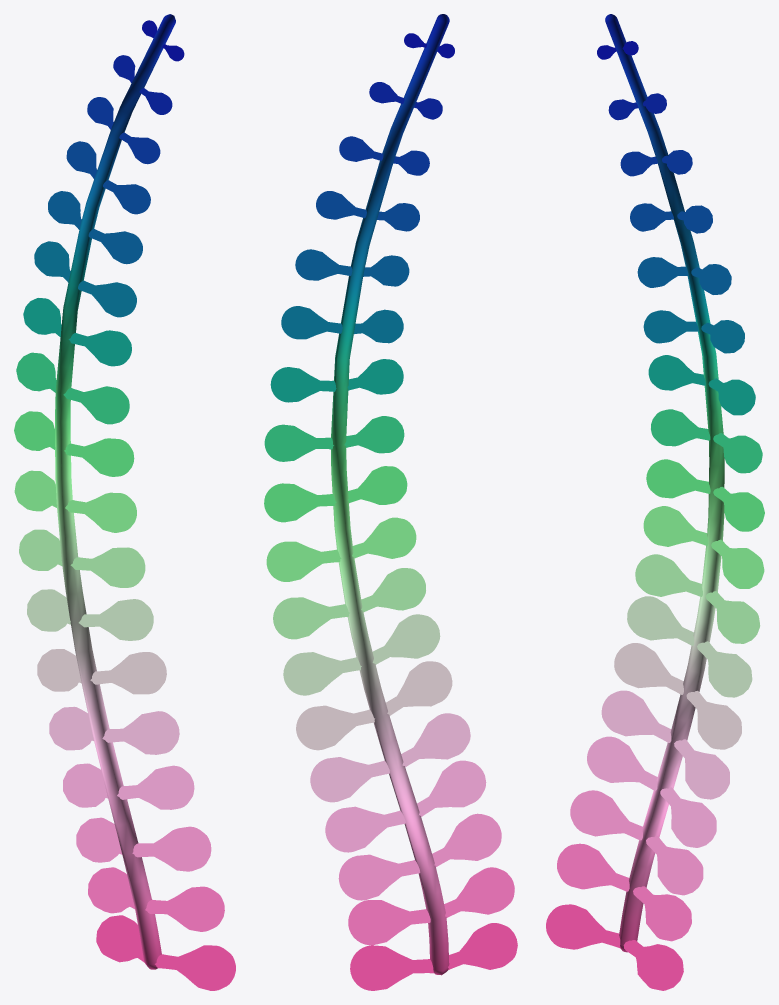
Rendered from Fern_1_R1.fbx.
3 views of the same model, side by side, from view 1: azimuth 90°, elevation 25°; view 2: azimuth 150°, elevation 25°; view 3: azimuth 270°, elevation 25° (orthographic).
Parts seen in each view (by area): view 1: Fern_1; view 2: Fern_1; view 3: Fern_1.
Boxes of the visible parts, box(x1,y1,x2,y2) form: Fern_1: box(14, 14, 235, 990); Fern_1: box(264, 14, 517, 990); Fern_1: box(546, 14, 764, 990).
Size of the model in its own units: 65.21 by 374 by 77.91.
